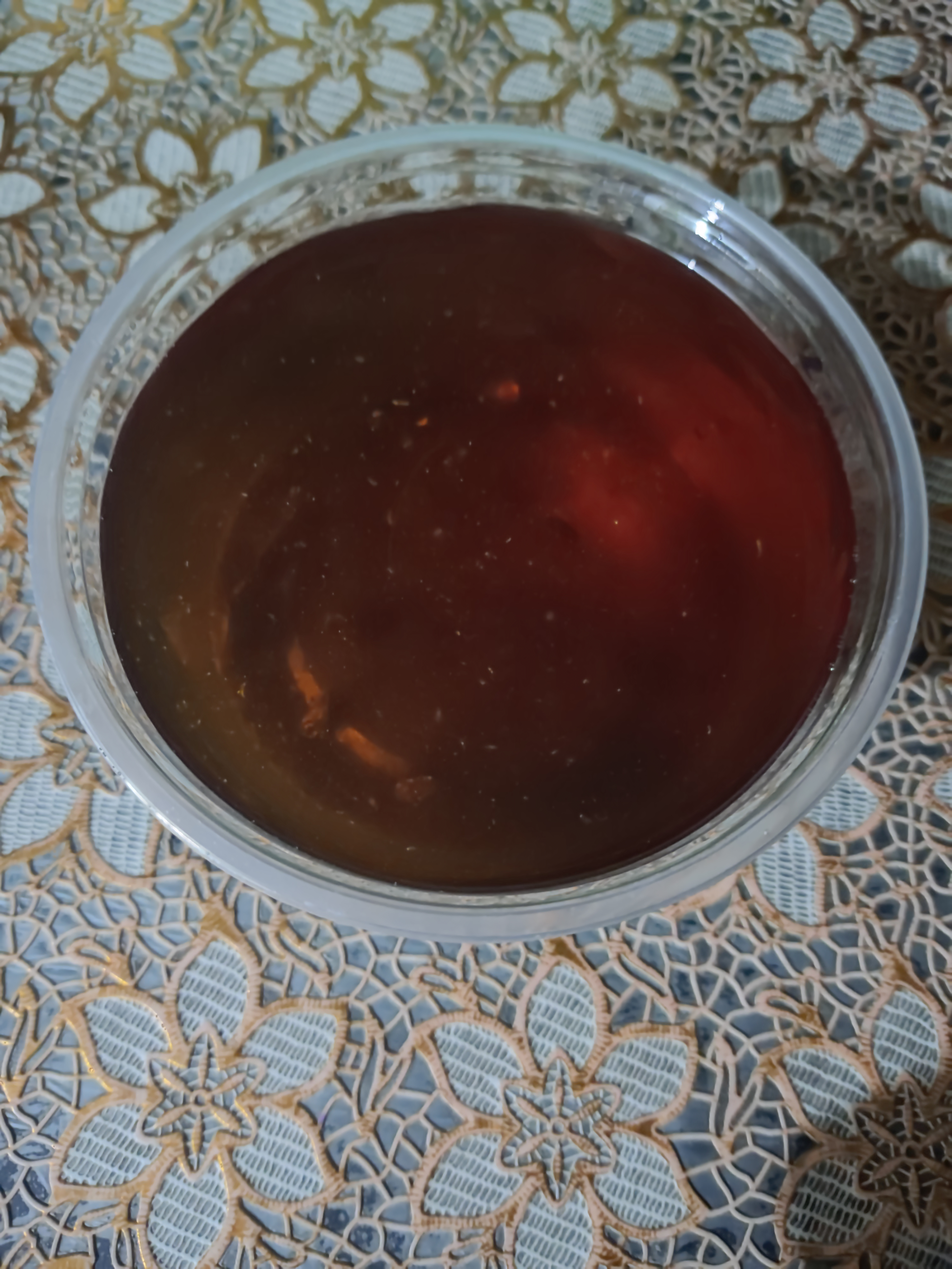non-reusable: (111, 209, 844, 888)
